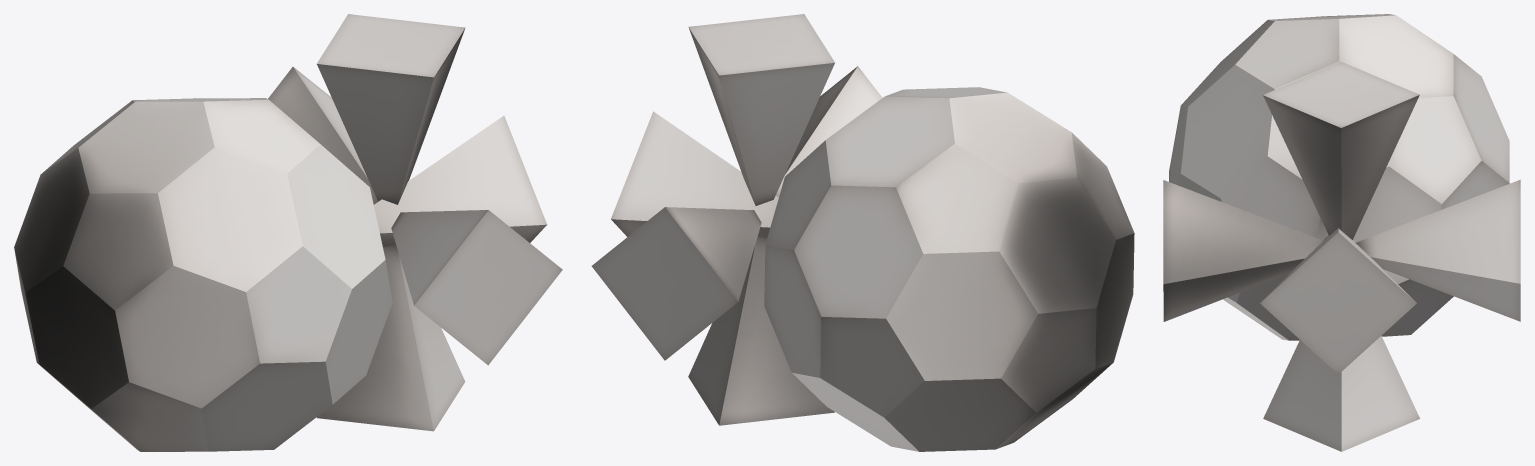
File: Thruster_01.fbx
3 renders of one model, left to right at view 1: azimuth 30°, elevation 25°; view 2: azimuth 150°, elevation 25°; view 3: azimuth 270°, elevation 25°, orthographic. The views are drawn at different scales.
Parts seen in each view (by area): view 1: thruster_01; view 2: thruster_01; view 3: thruster_01.
Boxes of the visible parts, x1,y1,x2,y2 form: thruster_01: [14, 14, 562, 451]; thruster_01: [591, 14, 1134, 451]; thruster_01: [1163, 14, 1520, 451].
Size of the model in its own units: 4.72 by 3.46 by 3.45.
